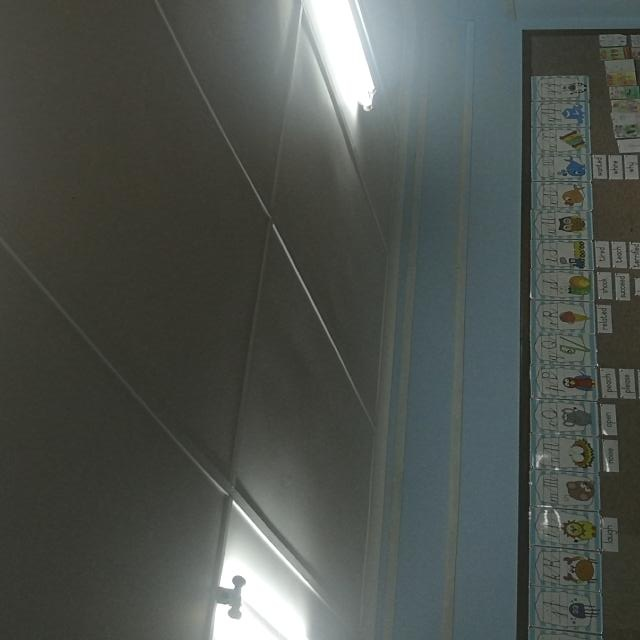fluorescent tube: (278, 0, 407, 126), (194, 542, 350, 635)
